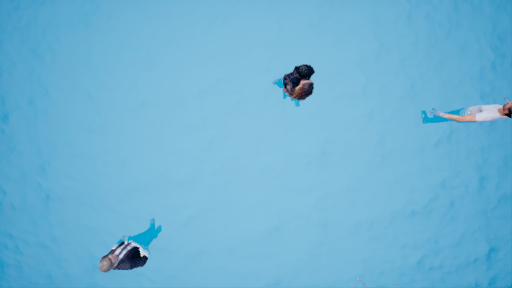person: (94, 211, 168, 273), (418, 93, 512, 128), (268, 58, 318, 111)
